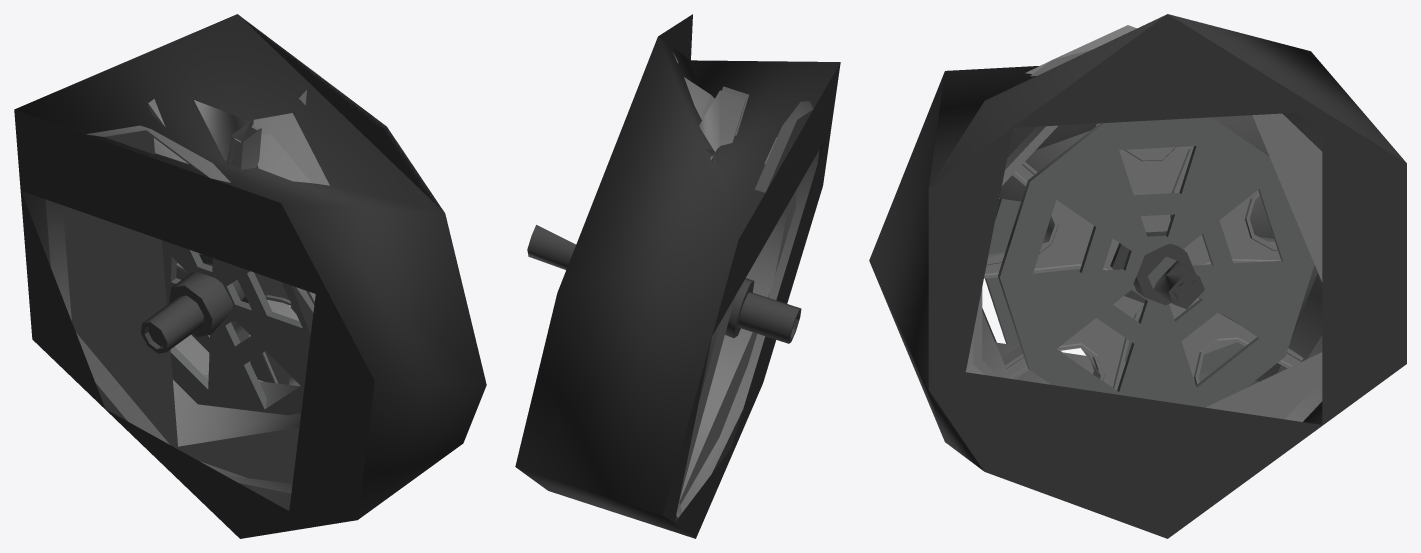
File: wheelR.glb
3 renders of one model, left to right at view 1: azimuth 30°, elevation 25°; view 2: azimuth 150°, elevation 25°; view 3: azimuth 270°, elevation 25°, orthographic.
Parts seen in each view (by area): view 1: Wheel_F001_Textures_0, Wheel_F001_Mat Wheel_0; view 2: Wheel_F001_Textures_0, Wheel_F001_Mat Wheel_0; view 3: Wheel_F001_Textures_0, Wheel_F001_Mat Wheel_0.
Part boxes in pixels (x1,y1,x2,y2): Wheel_F001_Textures_0: [14, 14, 486, 538]; Wheel_F001_Mat Wheel_0: [45, 90, 329, 493]; Wheel_F001_Textures_0: [515, 14, 840, 538]; Wheel_F001_Mat Wheel_0: [673, 53, 819, 517]; Wheel_F001_Textures_0: [869, 14, 1406, 538]; Wheel_F001_Mat Wheel_0: [966, 25, 1322, 421].
Size of the model in its own units: 0.2142 by 0.3631 by 0.3513.
Materials: 2 (1 with a texture image).
